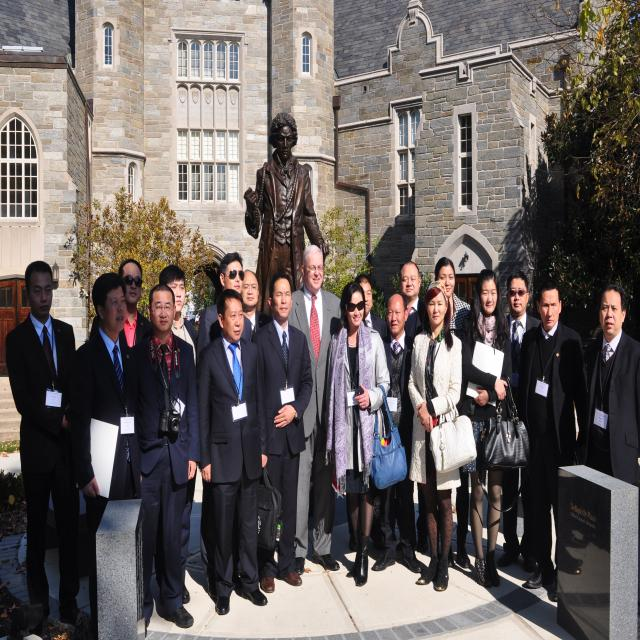body: (3, 257, 92, 636), (64, 269, 148, 639), (126, 280, 202, 638), (515, 277, 592, 605), (199, 285, 268, 617), (406, 277, 478, 594), (249, 268, 315, 596), (327, 278, 392, 591), (141, 264, 200, 605), (196, 252, 253, 602), (234, 111, 330, 314), (284, 244, 342, 576), (492, 268, 548, 574), (424, 256, 477, 572), (462, 268, 512, 589), (372, 290, 423, 574), (346, 273, 393, 552), (582, 282, 640, 485), (88, 257, 153, 350), (395, 258, 431, 340), (240, 269, 274, 335), (557, 515, 588, 577)
